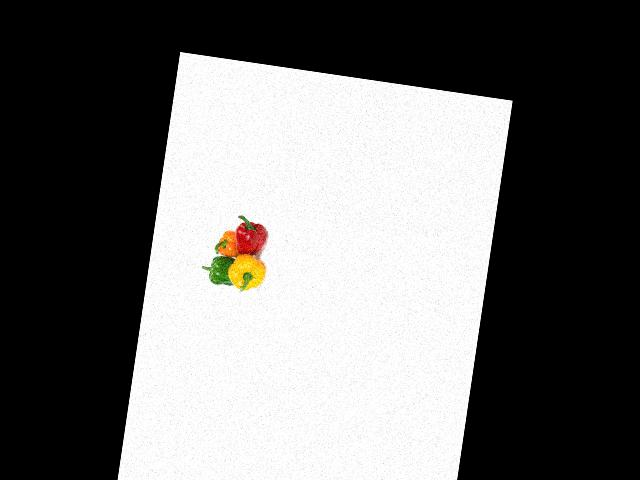bell_pepper: (225, 250, 269, 296)
